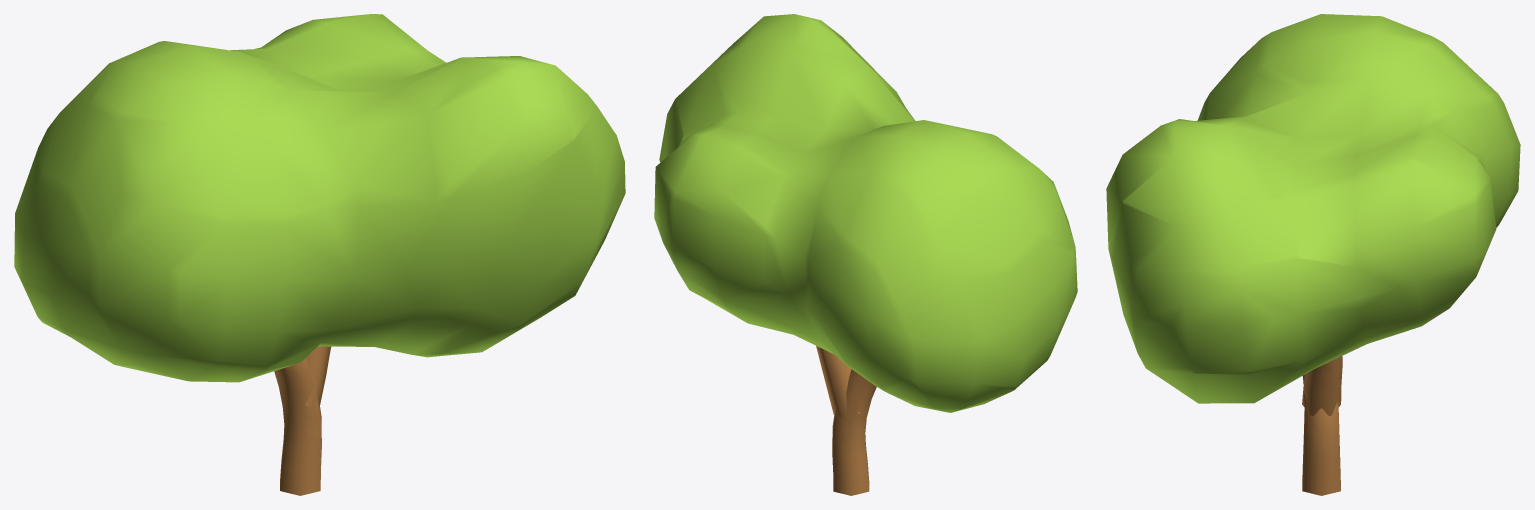
The model's file is tree.2.fbx.
3 views of the same model, side by side, from view 1: azimuth 30°, elevation 25°; view 2: azimuth 150°, elevation 25°; view 3: azimuth 270°, elevation 25° (orthographic). The views are drawn at different scales.
Visible parts, largest first — view 1: Canopy.002; view 2: Canopy.002; view 3: Canopy.002.
Boxes of the visible parts, x1=… form: Canopy.002: x1=14, y1=14, x2=625, y2=495; Canopy.002: x1=654, y1=14, x2=1077, y2=495; Canopy.002: x1=1106, y1=14, x2=1520, y2=495.
Size of the model in its own units: 383 by 328 by 292.
